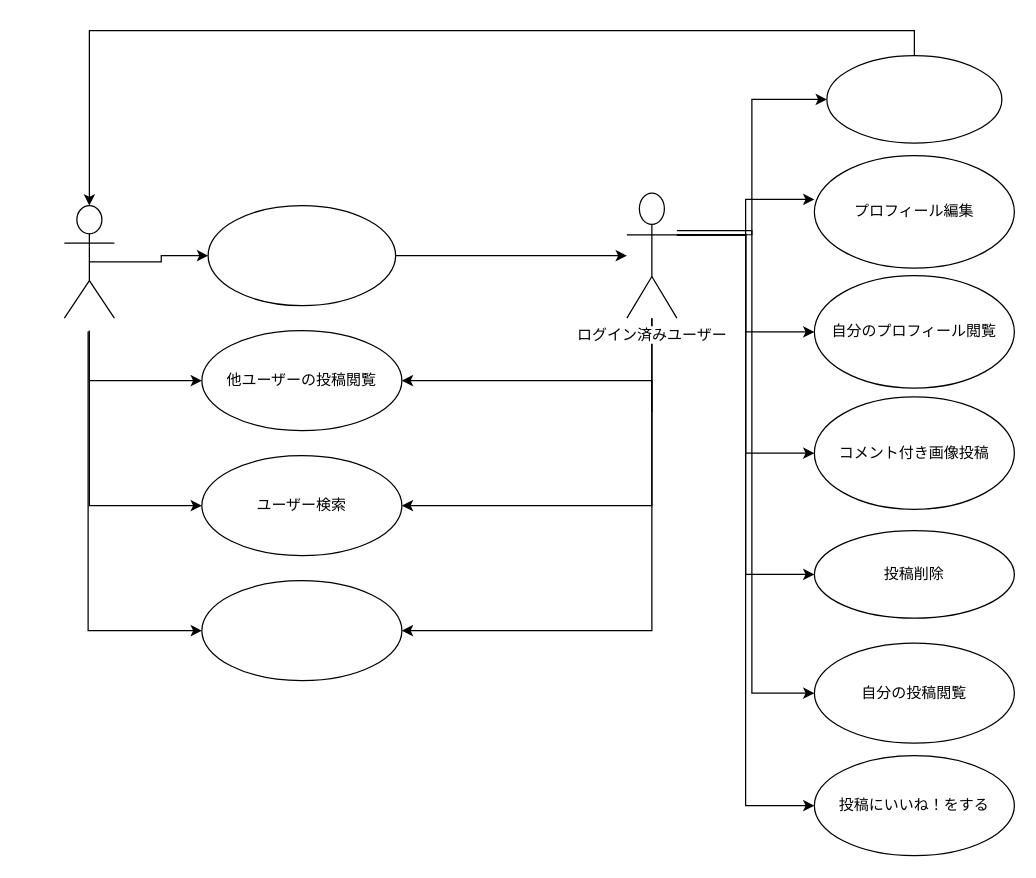
This 1036x878 diagram has some shape labels left out. The shapes that lost their labels are listed below. From the top down, each one's centre as x and y in pixels, then its label:
At point (914, 98): "サインアウト".
At point (88, 261): "未ログインユーザー".
At point (301, 255): "SSO".
At point (301, 630): "投稿検索".
